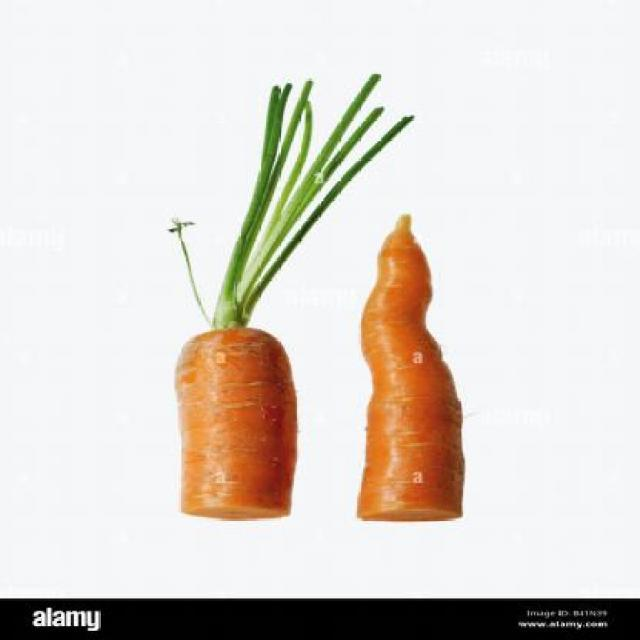carrot: (347, 203, 480, 529), (166, 310, 307, 524)
